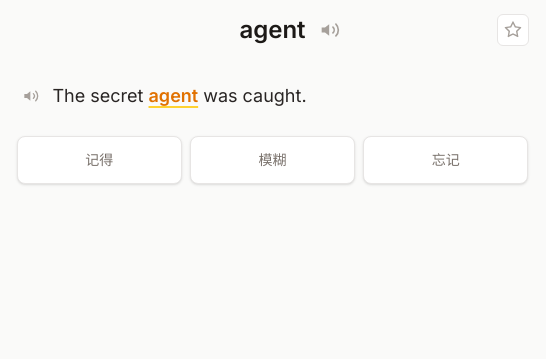
Test: direct word learning › retains the word and corrected rating if immediate forgotten submission fails
This screenshot has width=546, height=359.
Expected: the heading "agent" is shown, [239, 14, 306, 46]
Click the button "记得": (99, 160) [16, 136, 182, 184]
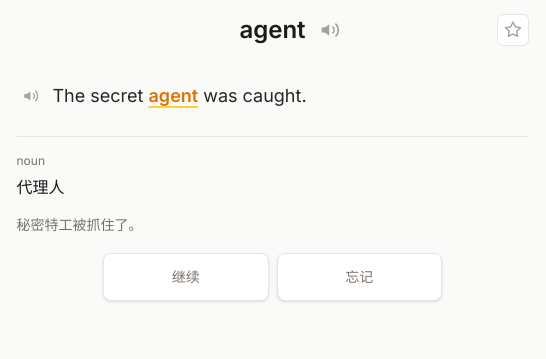
Now the text "代理人" is shown, box [16, 177, 64, 197]
Now the button "记得" is gone
Now the button "模糊" is gone
Click the button "忘记": (359, 277) [276, 253, 442, 301]
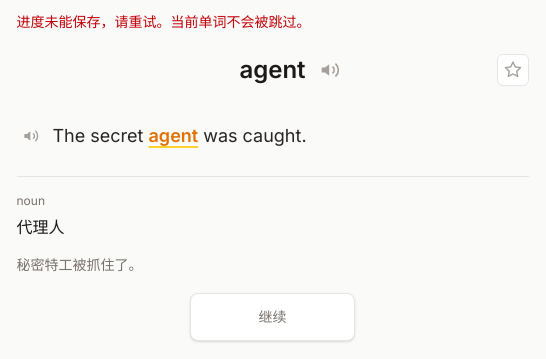
Now the message "进度未能保存，请重试。当前单词不会被跳过。" is shown, box [16, 13, 310, 30]
Now the button "忘记" is gone
